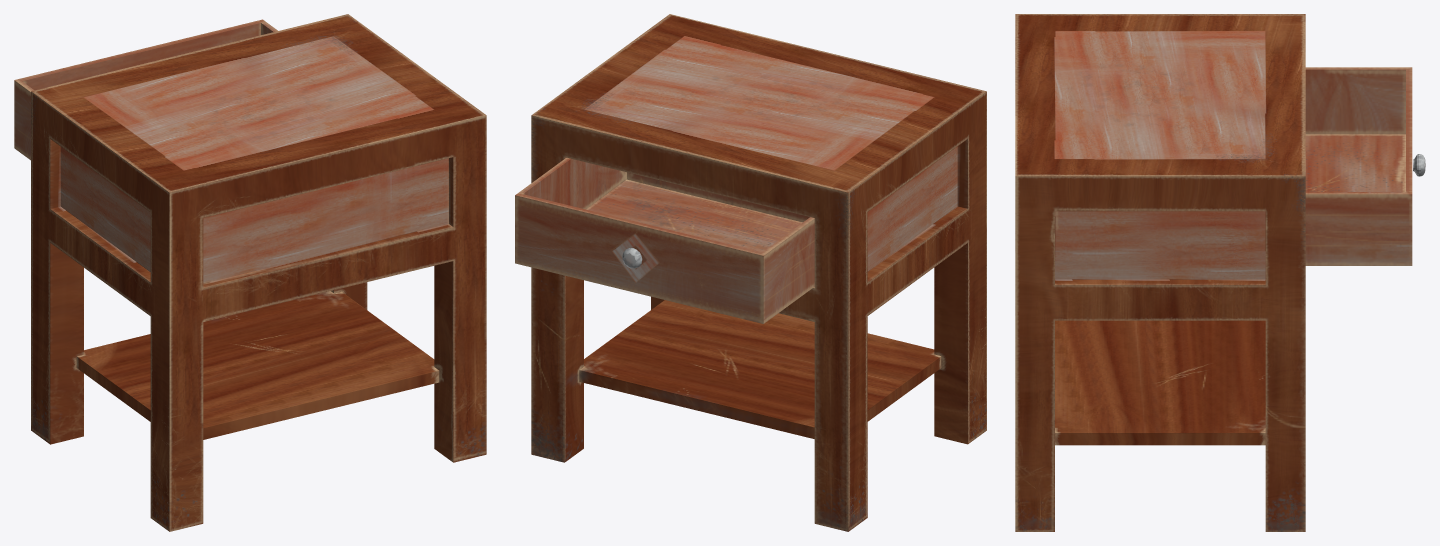
Rendered from Bedstand.FBX.
The picture shows the model from 3 angles, left to right: view 1: azimuth 30°, elevation 25°; view 2: azimuth 150°, elevation 25°; view 3: azimuth 270°, elevation 25°; orthographic projection. The views are drawn at different scales.
Parts seen in each view (by area): view 1: BedsideEndtable, BedTableDrawer; view 2: BedsideEndtable, BedTableDrawer; view 3: BedsideEndtable, BedTableDrawer.
Part boxes in pixels (x1=…): BedsideEndtable: x1=31, y1=14, x2=486, y2=531; BedTableDrawer: x1=14, y1=19, x2=277, y2=160; BedsideEndtable: x1=531, y1=14, x2=986, y2=531; BedTableDrawer: x1=515, y1=157, x2=814, y2=323; BedsideEndtable: x1=1015, y1=14, x2=1305, y2=531; BedTableDrawer: x1=1305, y1=67, x2=1425, y2=265.
Bounding box in the file's own units: 24.19 × 24.73 × 25.86.
